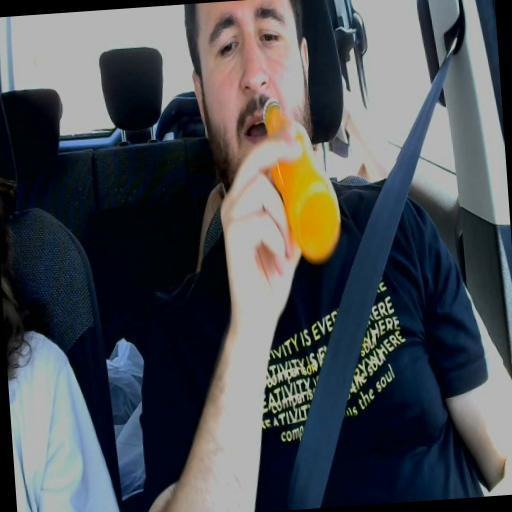Drinking: (192, 4, 342, 263)
